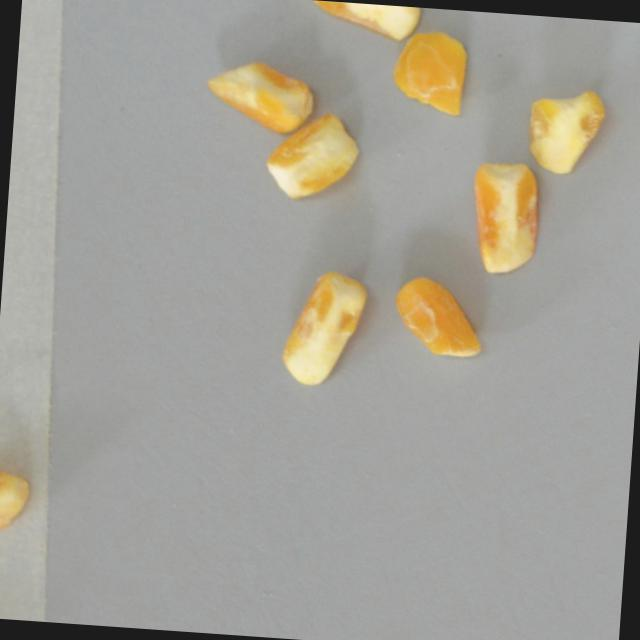estandar: (202, 48, 321, 150), (455, 151, 548, 276), (514, 82, 613, 183)
pelicula: (370, 7, 495, 132), (375, 256, 499, 380), (252, 100, 376, 224), (262, 265, 386, 389), (304, 0, 424, 64)
